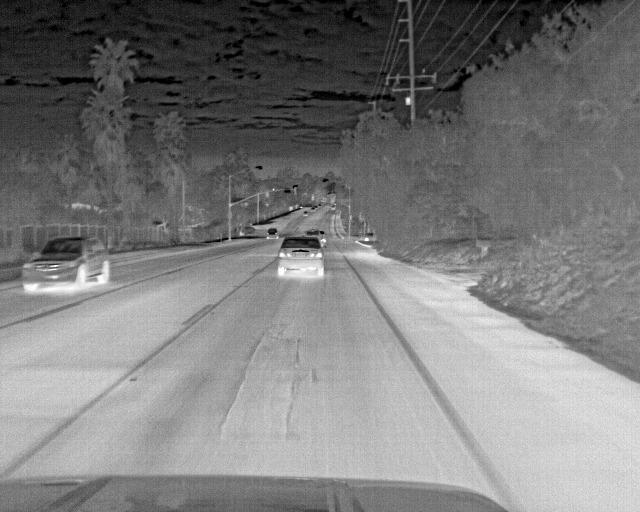car: (24, 234, 110, 291), (278, 236, 327, 275), (304, 229, 324, 247), (237, 226, 260, 236), (361, 232, 376, 242), (267, 228, 278, 239), (319, 230, 327, 242), (303, 211, 308, 216), (311, 207, 316, 212), (314, 205, 318, 209), (331, 206, 335, 210), (318, 204, 322, 207)
light: (294, 187, 298, 195), (266, 190, 269, 197), (349, 214, 352, 220)
sign: (228, 212, 232, 218), (349, 220, 355, 222)
